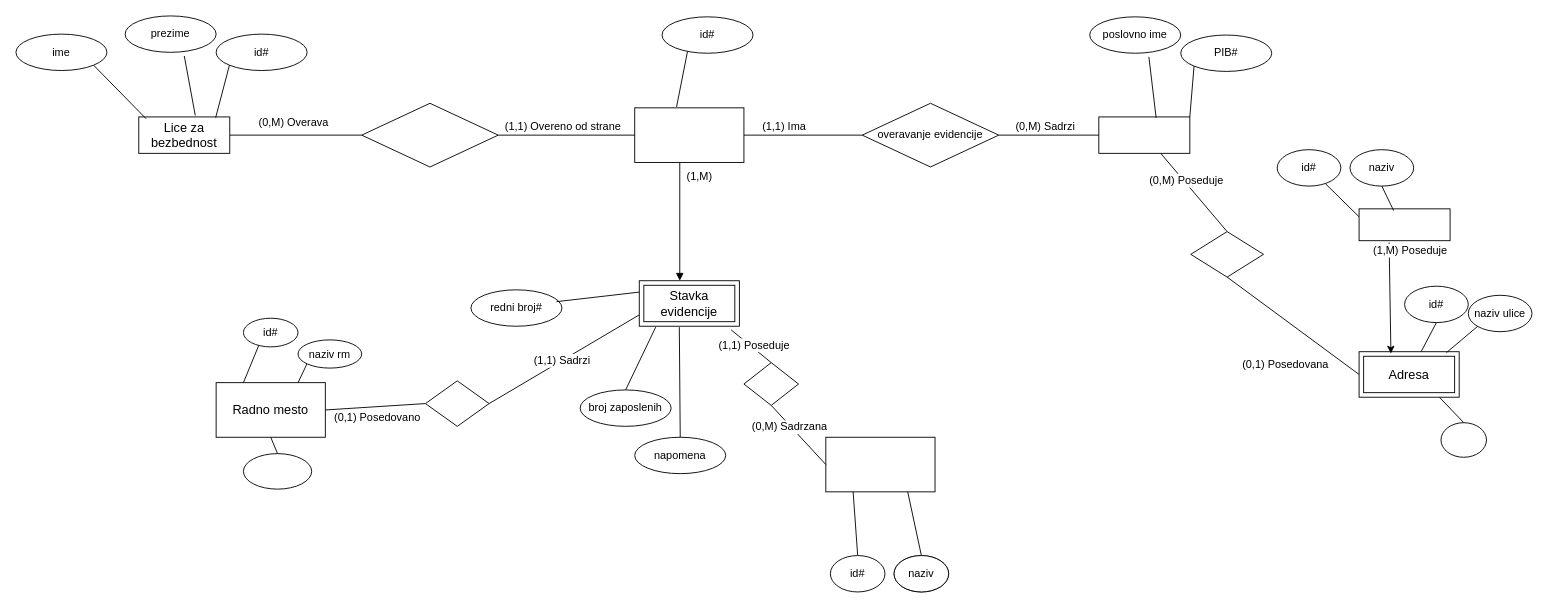
Some shapes in this 1548 by 608 pixel diagram are drawn without their labels. The shapes that lost their labels are listed below. From the top down, each one's box as (x1, y1, x2, y2) in pixels, then its label:
(361, 102, 498, 167): Vodjenje evidencije
(634, 107, 744, 162): Evidencija o radnim mestima
(1098, 116, 1190, 153): Poslodavac
(1358, 208, 1450, 241): Grad
(1190, 231, 1264, 277): boravi
(425, 380, 489, 426): Ima
(743, 362, 799, 405): Poseduje
(1440, 422, 1486, 457): broj
(243, 453, 312, 489): opis poslova
(825, 436, 935, 492): Sifra opasnosti
